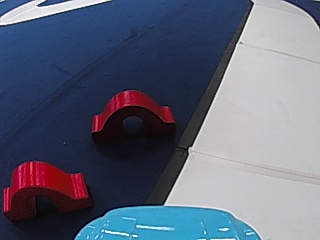bridge: (3, 160, 91, 223), (87, 85, 177, 143)
